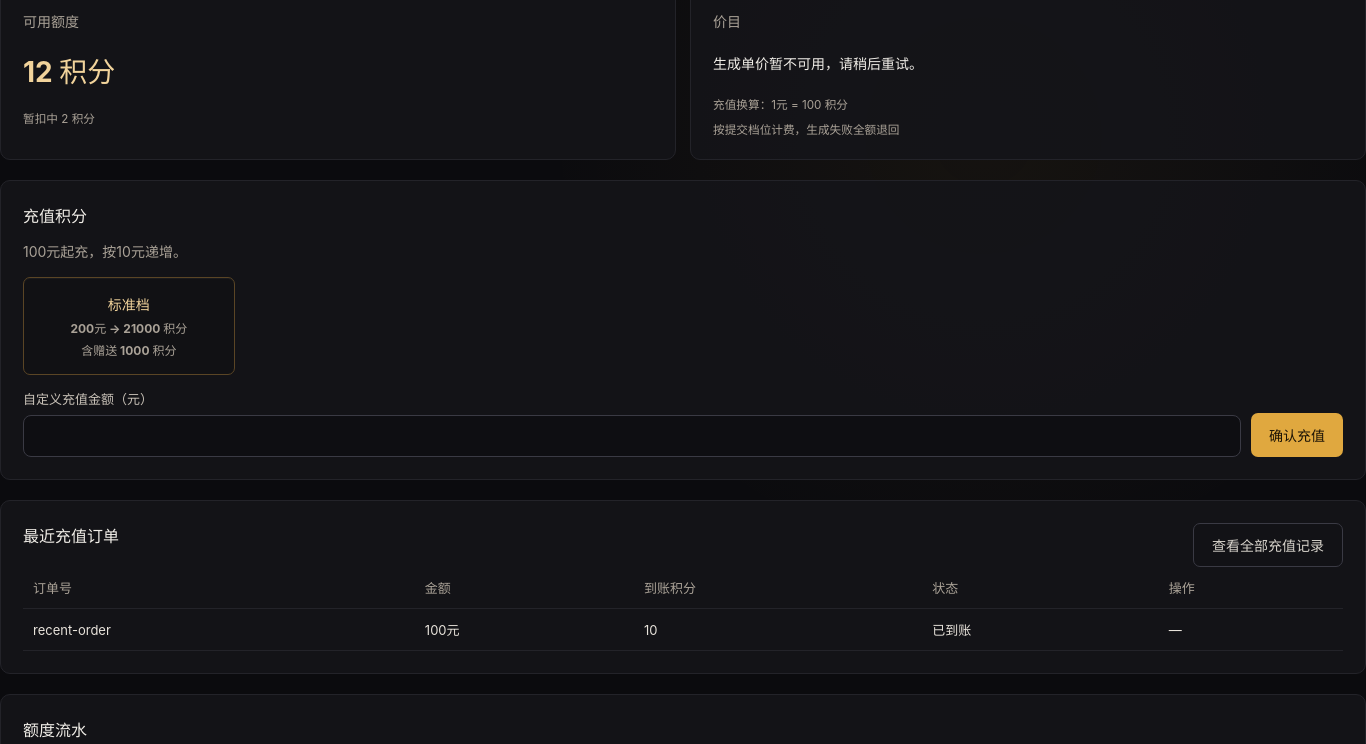
CustomerWalletPanel › reloads the latest history page after a delayed order creation
Expected: the text "recent-order" is shown, [23,608,415,650]
Click the button "查看全部充值记录" at (1268, 545), box [1193,523,1343,567]
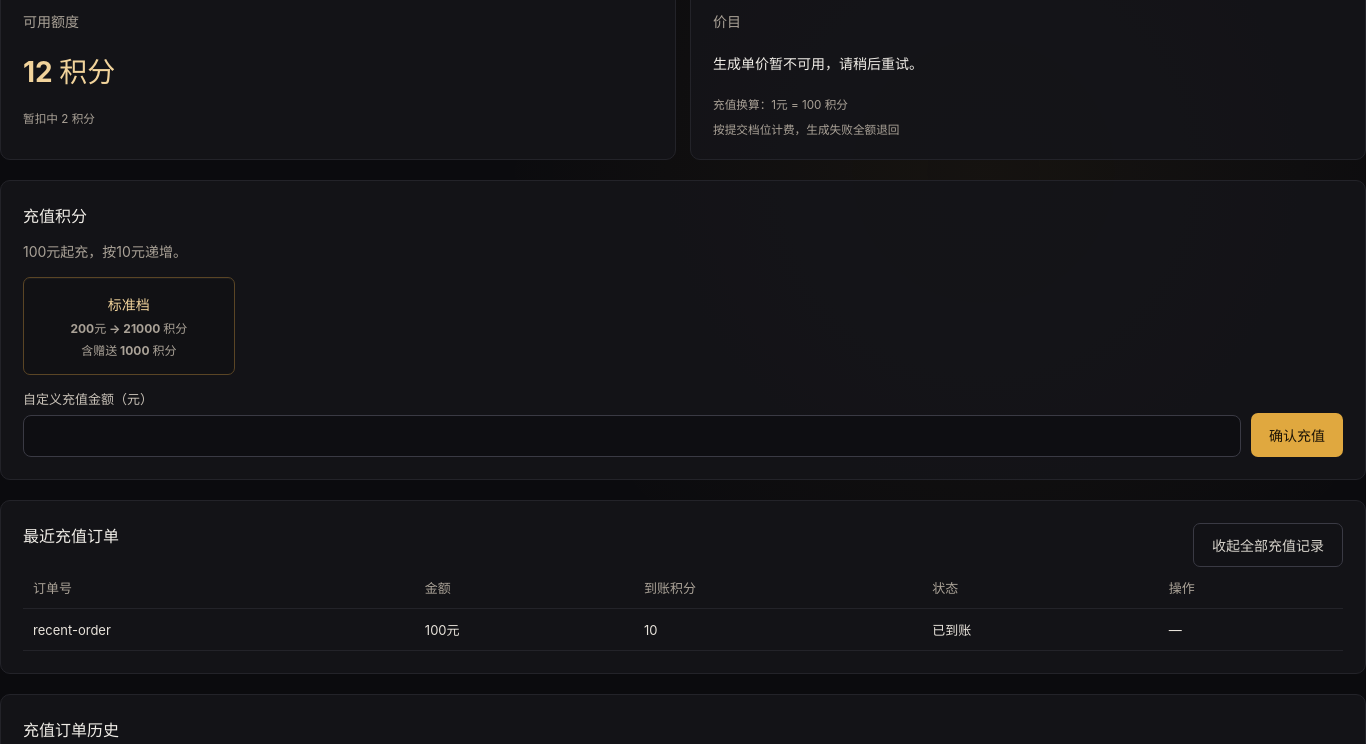
Click the button with aria-label "购买套餐标准档" at (129, 326), box [23,277,235,375]
(page scrolled)
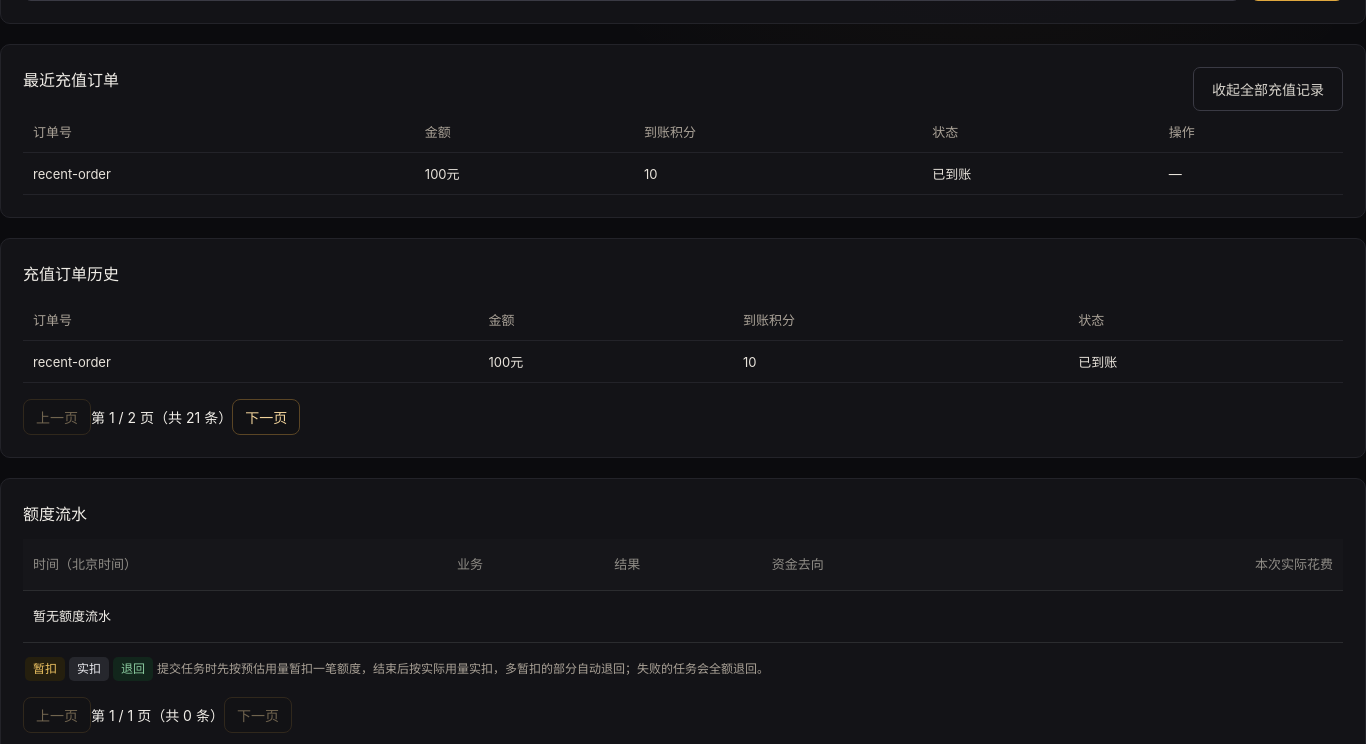
Click the button "下一页" next to "第 1 / 2 页（共 21 条）" at (266, 417), box [232,399,300,435]
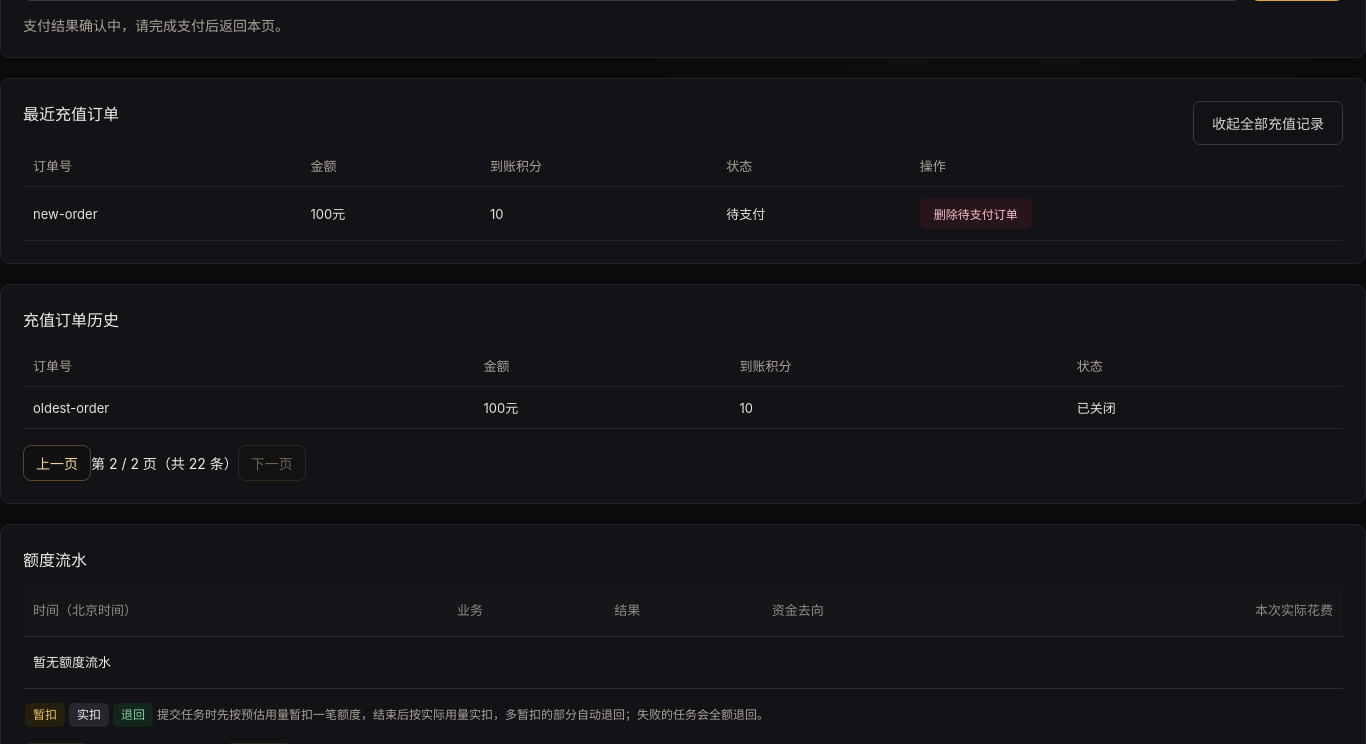
Expected: the text "oldest-order" is shown, [23,386,474,428]
